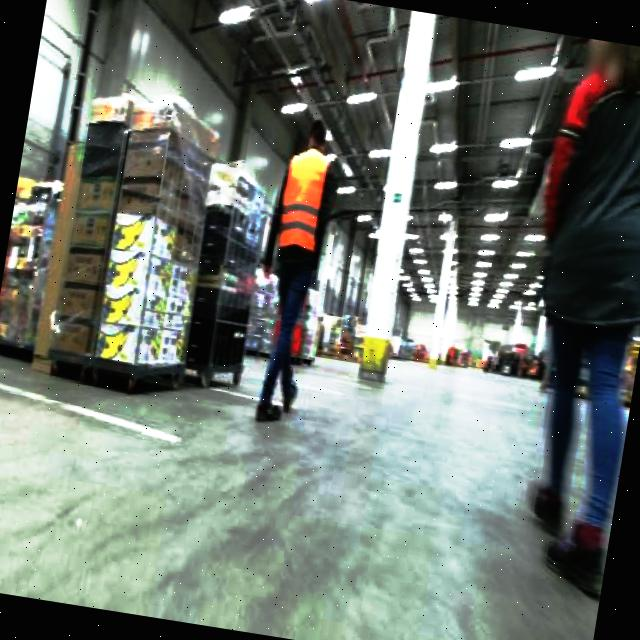ground: (0, 288, 632, 640)
pallet: (29, 86, 229, 401), (27, 138, 125, 381), (176, 156, 276, 393), (0, 173, 59, 358)
